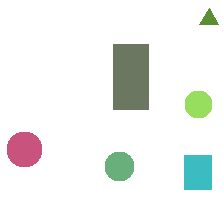circle: (7, 132, 41, 166), (105, 152, 133, 180), (185, 91, 211, 117)
rectangle: (113, 44, 148, 109), (184, 155, 211, 189)
triangle: (199, 8, 218, 24)
